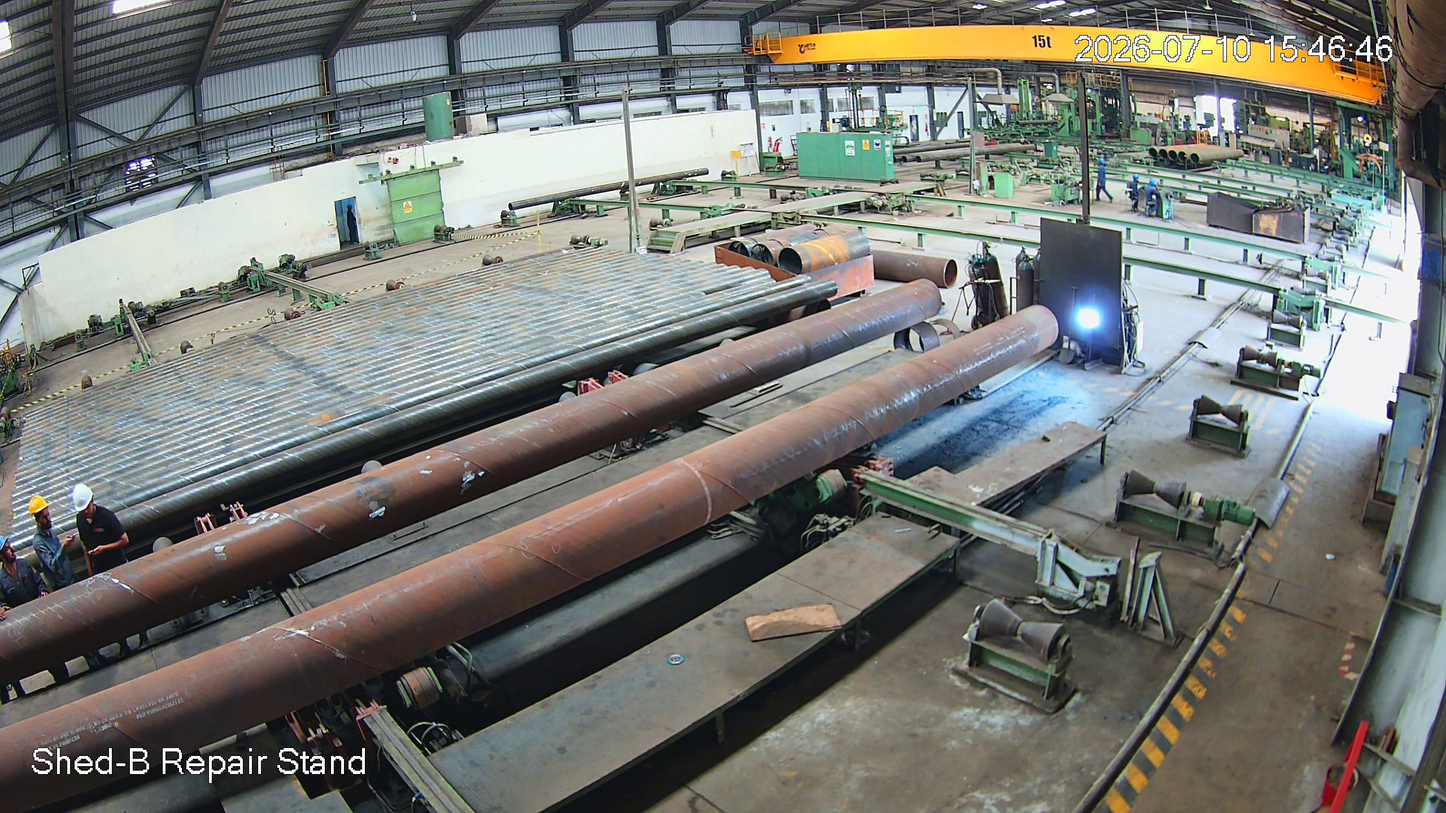Helmet: (69, 479, 101, 529), (23, 491, 56, 535)
Person: (68, 484, 139, 579), (22, 497, 84, 592), (0, 531, 35, 627)
